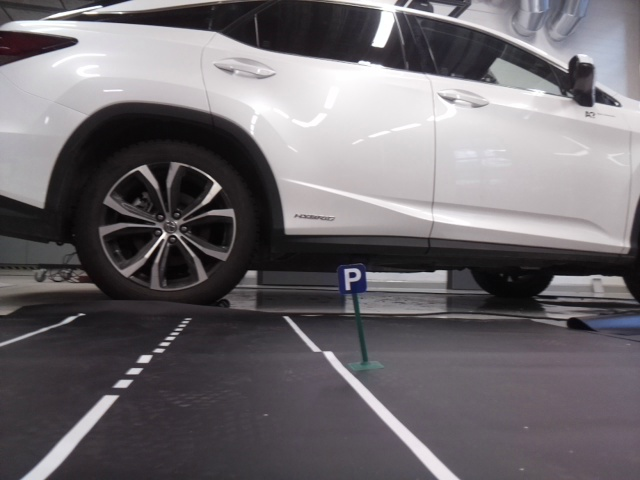Parking: (337, 266, 366, 292)
